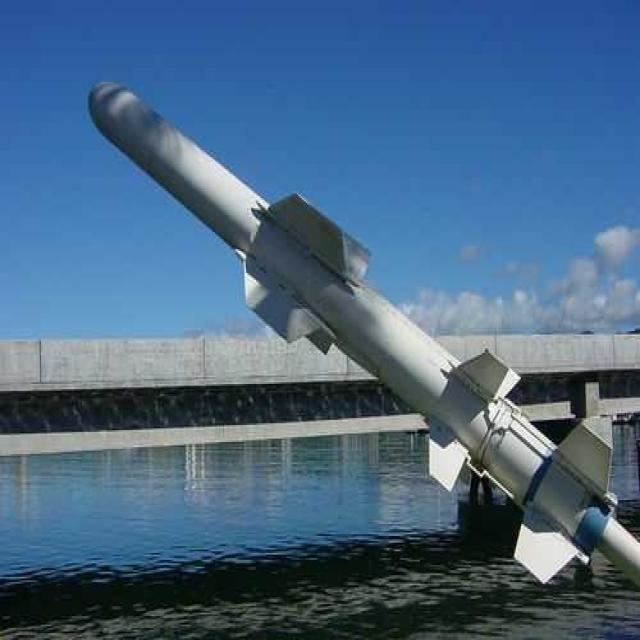missile: (87, 71, 640, 579)
